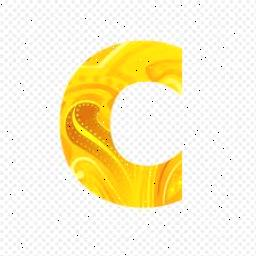c: (52, 31, 202, 211)
